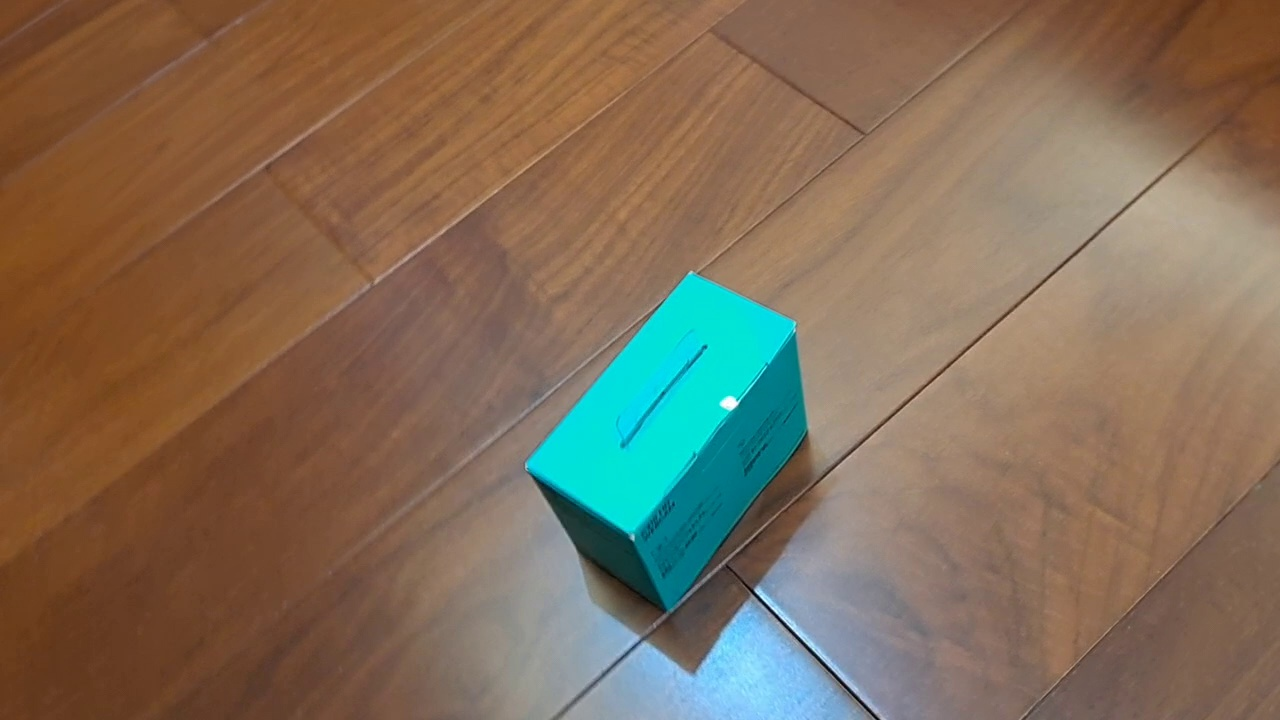webcam: (522, 268, 811, 617)
